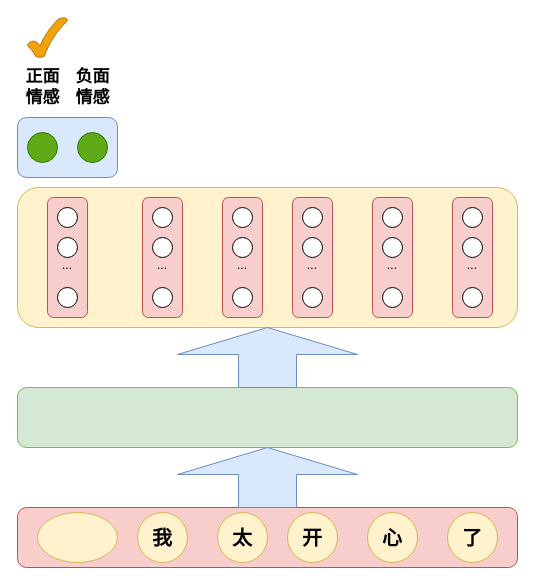
This 535x585 diagram has some shape labels left out. Each missing label, with the centre of its shape:
"[CLS]" belongs at (77,537).
"BERT" belongs at (267,417).
